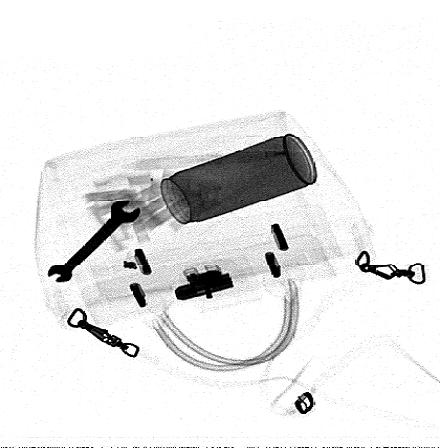Wrench: (47, 200, 141, 283)
